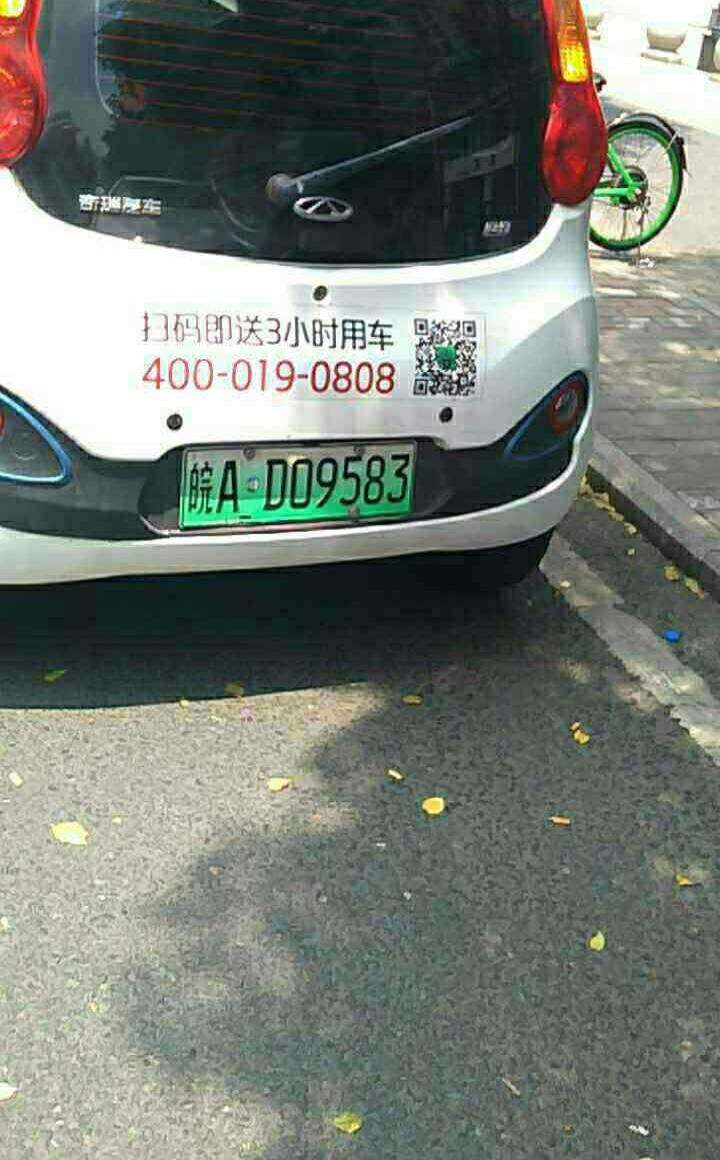car_id: (179, 438, 420, 522)
